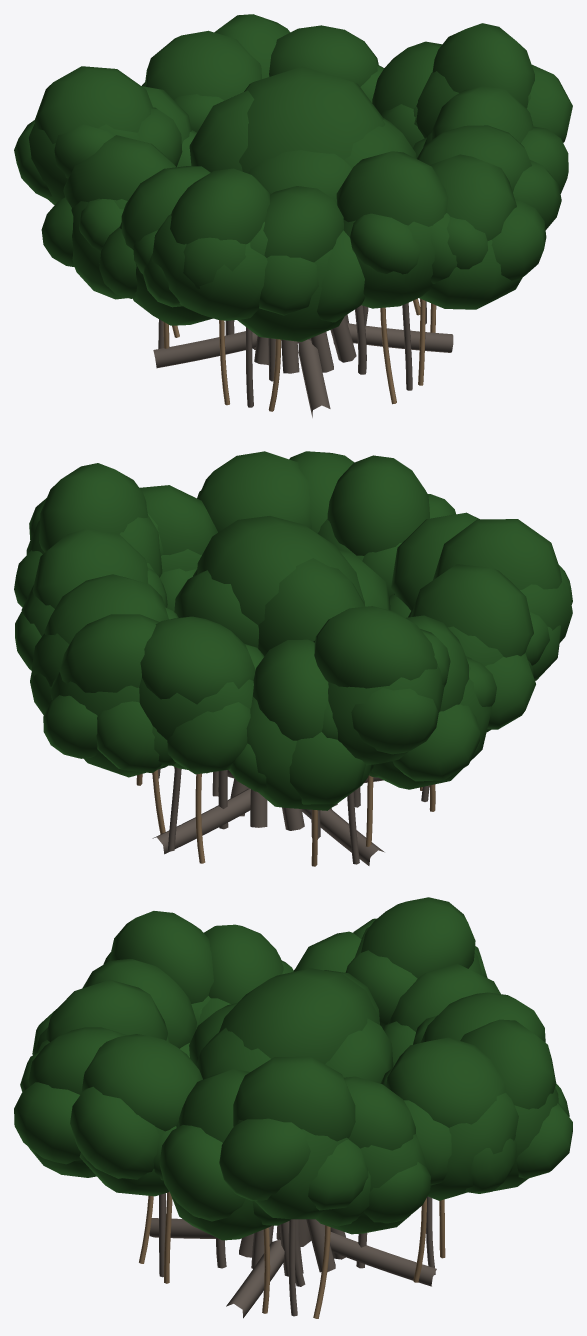
The model's file is banyan-standard-untextured.glb.
3 renders of one model, top to bottom at view 1: azimuth 30°, elevation 25°; view 2: azimuth 150°, elevation 25°; view 3: azimuth 270°, elevation 25°, orthographic. The views are drawn at different scales.
Parts seen in each view (by area): view 1: Mesh_CenterFoliage_0, Mesh_Right_1_Fol_5, Mesh_Limb_3_Fol_5, Mesh_Left_4_Fol_5, Mesh_Limb_2_Fol_5, Mesh_Limb_2_Fol_0, Mesh_Limb_0_Fol_5, Mesh_Left_2_Fol_5, Mesh_Left_3_Fol_5, Mesh_Limb_1_Fol_5, Mesh_Right_4_Fol_5, Mesh_Left_1_Fol_5 (+47 smaller); view 2: Mesh_CenterFoliage_0, Mesh_Limb_3_Fol_5, Mesh_Right_1_Fol_5, Mesh_Left_4_Fol_5, Mesh_Right_2_Fol_5, Mesh_Left_1_Fol_5, Mesh_Limb_0_Fol_5, Mesh_Limb_2_Fol_5, Mesh_Right_3_Fol_5, Mesh_Limb_4_Fol_5, Mesh_CenterFoliage_2, Mesh_Left_0_Fol_5 (+41 smaller); view 3: Mesh_CenterFoliage_0, Mesh_Limb_0_Fol_5, Mesh_Right_4_Fol_5, Mesh_Left_1_Fol_5, Mesh_Limb_3_Fol_5, Mesh_Left_1_Fol_1, Mesh_Limb_0_Fol_1, Mesh_Limb_2_Fol_5, Mesh_Right_0_Fol_1, Mesh_Limb_4_Fol_5, Mesh_Right_1_Fol_5, Mesh_Right_2_Fol_5 (+34 smaller).
Boxes of the visible parts, bbox=[...] form: Mesh_CenterFoliage_0: bbox=[239, 66, 385, 173]; Mesh_Right_1_Fol_5: bbox=[336, 151, 448, 226]; Mesh_Limb_3_Fol_5: bbox=[34, 66, 153, 143]; Mesh_Left_4_Fol_5: bbox=[145, 30, 261, 100]; Mesh_Limb_2_Fol_5: bbox=[170, 168, 270, 244]; Mesh_Limb_2_Fol_0: bbox=[152, 214, 267, 320]; Mesh_Limb_0_Fol_5: bbox=[432, 23, 534, 108]; Mesh_Left_2_Fol_5: bbox=[263, 186, 343, 262]; Mesh_Left_3_Fol_5: bbox=[63, 135, 175, 207]; Mesh_Limb_1_Fol_5: bbox=[429, 154, 516, 240]; Mesh_Right_4_Fol_5: bbox=[269, 25, 378, 86]; Mesh_Left_1_Fol_5: bbox=[417, 125, 531, 192]; Mesh_CenterFoliage_0: bbox=[197, 516, 364, 624]; Mesh_Limb_3_Fol_5: bbox=[314, 606, 437, 688]; Mesh_Right_1_Fol_5: bbox=[327, 455, 429, 555]; Mesh_Left_4_Fol_5: bbox=[140, 616, 255, 704]; Mesh_Right_2_Fol_5: bbox=[410, 564, 533, 657]; Mesh_Left_1_Fol_5: bbox=[197, 451, 311, 532]; Mesh_Limb_0_Fol_5: bbox=[39, 463, 147, 552]; Mesh_Limb_2_Fol_5: bbox=[433, 519, 561, 589]; Mesh_Right_3_Fol_5: bbox=[253, 639, 328, 740]; Mesh_Limb_4_Fol_5: bbox=[59, 614, 159, 692]; Mesh_CenterFoliage_2: bbox=[258, 558, 364, 656]; Mesh_Left_0_Fol_5: bbox=[32, 529, 148, 608]; Mesh_CenterFoliage_0: bbox=[219, 968, 379, 1063]; Mesh_Limb_0_Fol_5: bbox=[233, 1056, 355, 1141]; Mesh_Right_4_Fol_5: bbox=[386, 1037, 505, 1127]; Mesh_Left_1_Fol_5: bbox=[81, 1034, 202, 1131]; Mesh_Limb_3_Fol_5: bbox=[361, 897, 475, 978]; Mesh_Left_1_Fol_1: bbox=[70, 1086, 159, 1179]; Mesh_Limb_0_Fol_1: bbox=[219, 1118, 310, 1200]; Mesh_Limb_2_Fol_5: bbox=[109, 911, 213, 1003]; Mesh_Right_0_Fol_1: bbox=[159, 1125, 245, 1221]; Mesh_Limb_4_Fol_5: bbox=[460, 1019, 556, 1109]; Mesh_Right_1_Fol_5: bbox=[45, 979, 167, 1041]; Mesh_Right_2_Fol_5: bbox=[204, 924, 283, 1004].
Bounding box in the file's own units: 9.37 × 5.47 × 9.46.
